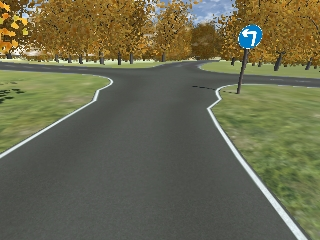left: (237, 24, 263, 48)
